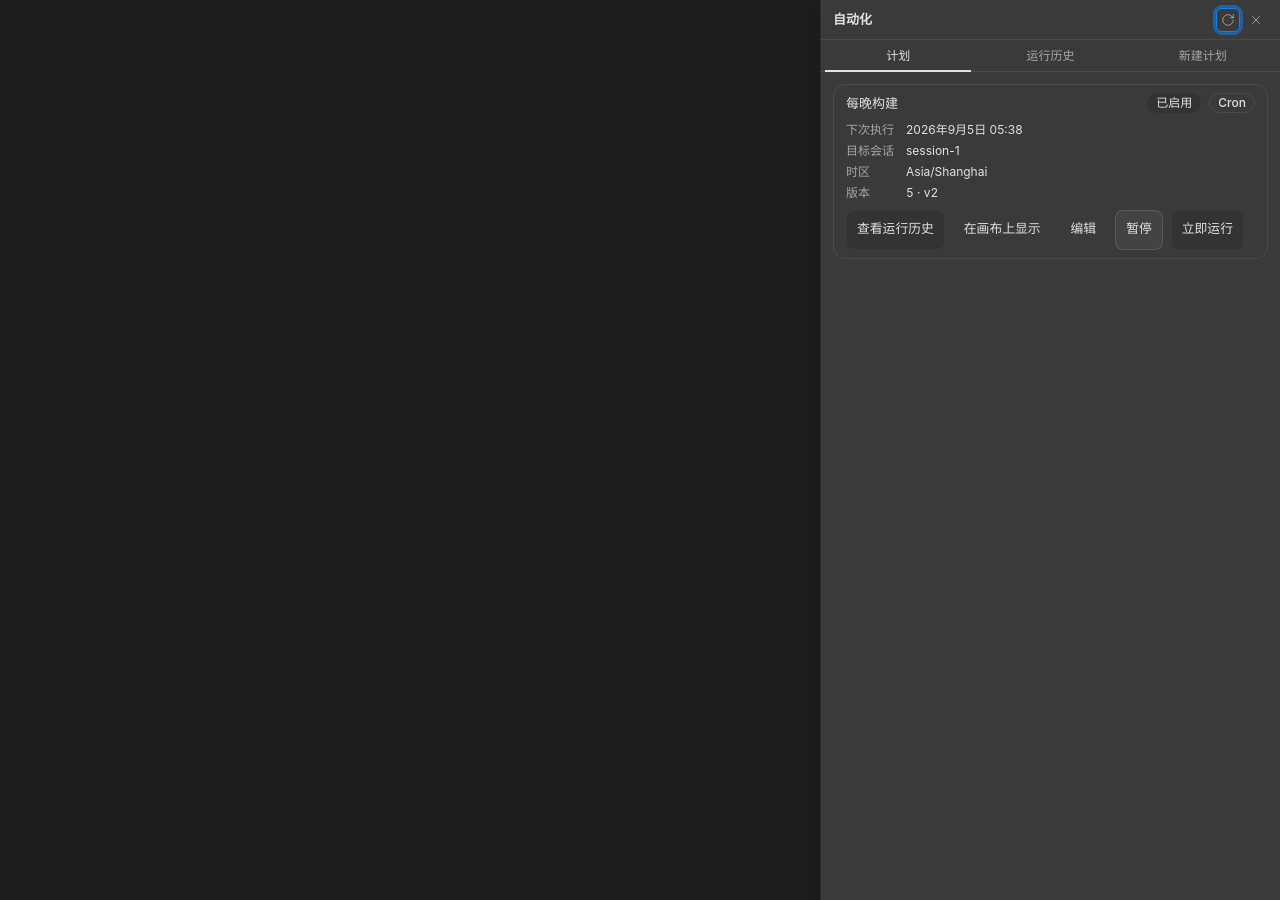
Test: run history navigation › asks the Host for the next page instead of pulling the whole history
Step 1. Click the button "查看运行历史" → (895, 230), box [846, 210, 945, 250]
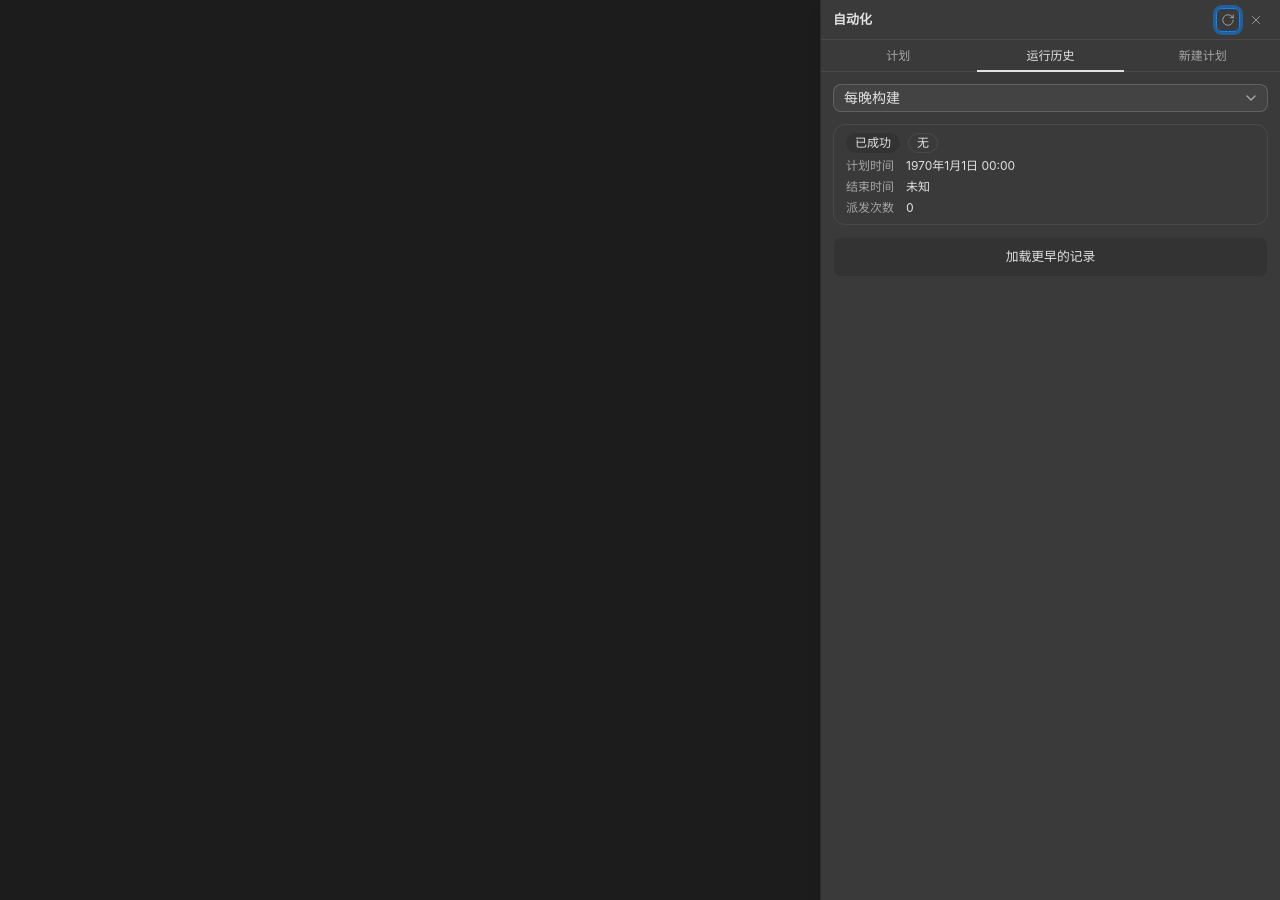
Expected: the element showing "已成功 无 计划时间 1970年1月1日 00:00 结束时间 未知 派发次数 0" is shown, [833, 124, 1268, 225]
Step 2. Click the button "加载更早的记录" → (1050, 257), box [833, 237, 1268, 277]
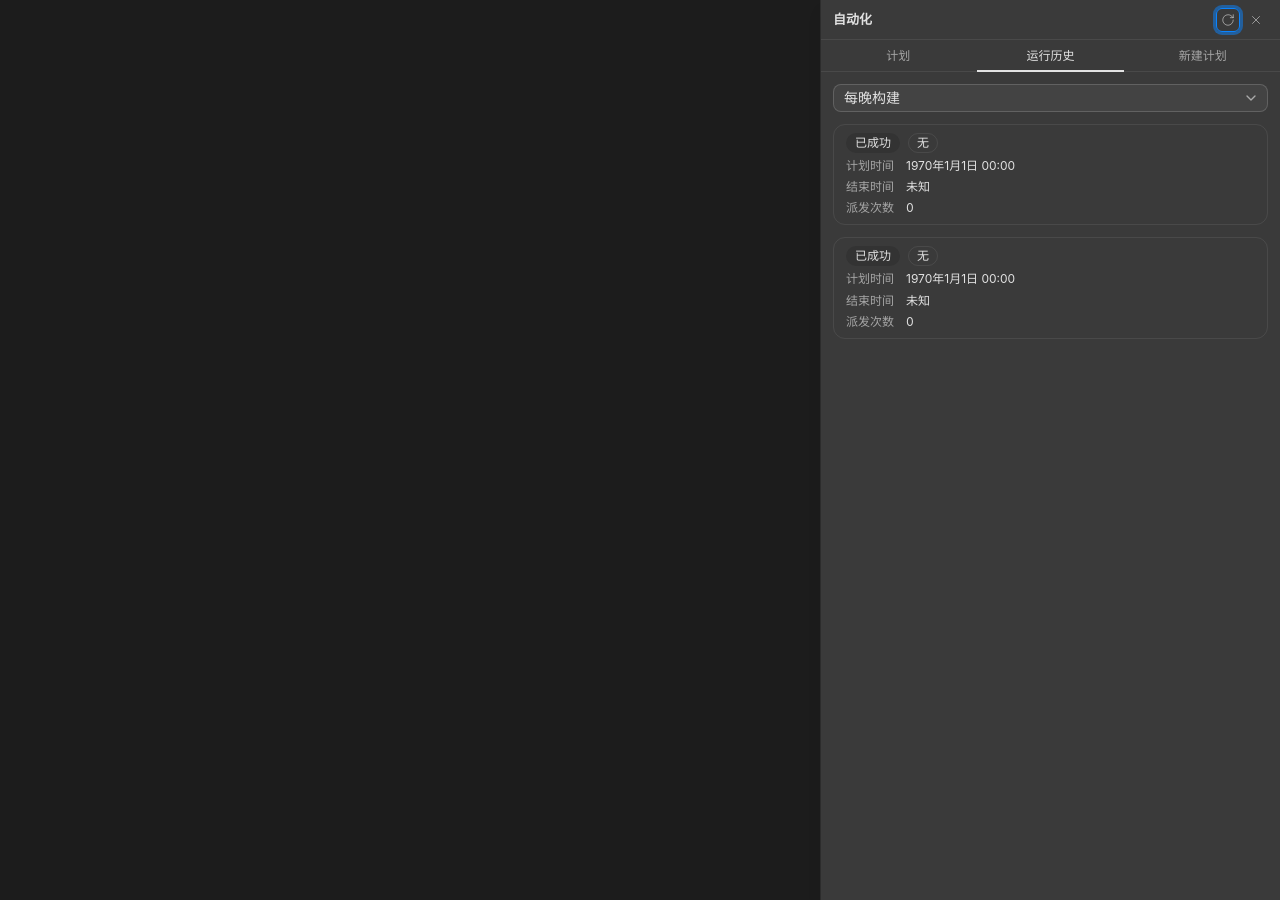
Expected: the element showing "已成功 无 计划时间 1970年1月1日 00:00 结束时间 未知 派发次数 0" is shown, [833, 237, 1268, 339]
Expected: the button "加载更早的记录" is gone
